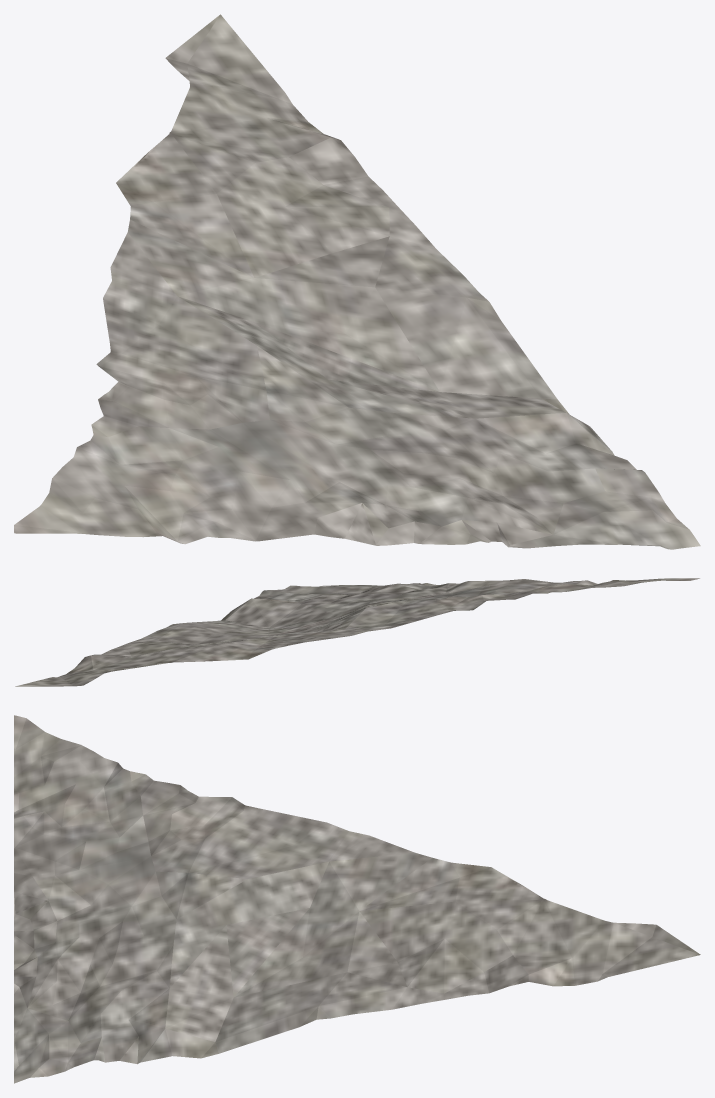
3 views of the same model, one above another, from view 1: azimuth 30°, elevation 25°; view 2: azimuth 150°, elevation 25°; view 3: azimuth 270°, elevation 25° (orthographic). The views are drawn at different scales.
Bounding box in the file's own units: 0.4654 × 0.1167 × 0.564.
Materials: 1 (1 with a texture image).
